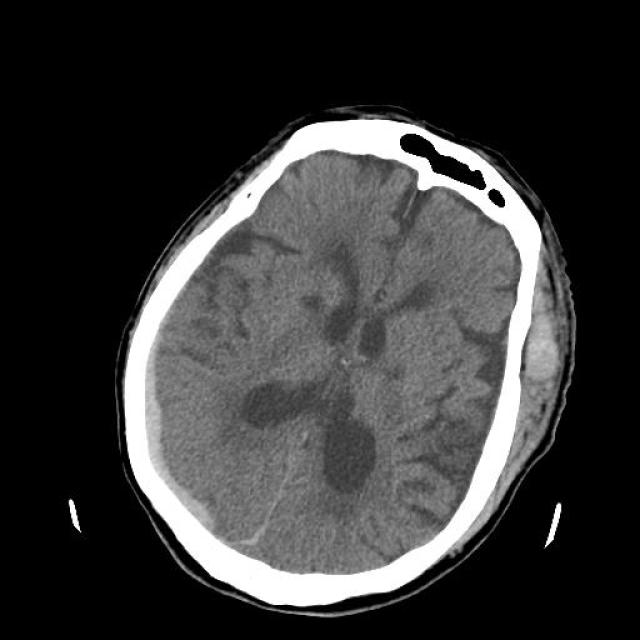Subdural: (76, 294, 232, 536)
